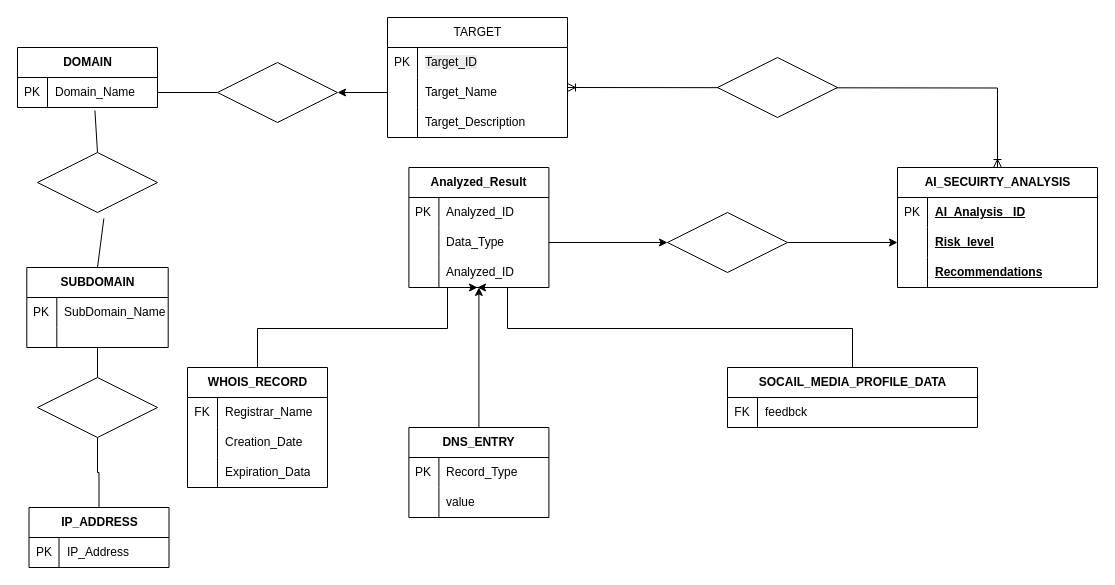
This 1115x585 diagram has some shape labels left out. The shapes that lost their labels are listed below. From the top down, each one's centre as x and y in pixels, then its label:
point 277,92: has
point 777,87: evaluated_by
point 97,182: Contains
point 727,242: reviews
point 97,407: resolves_to
